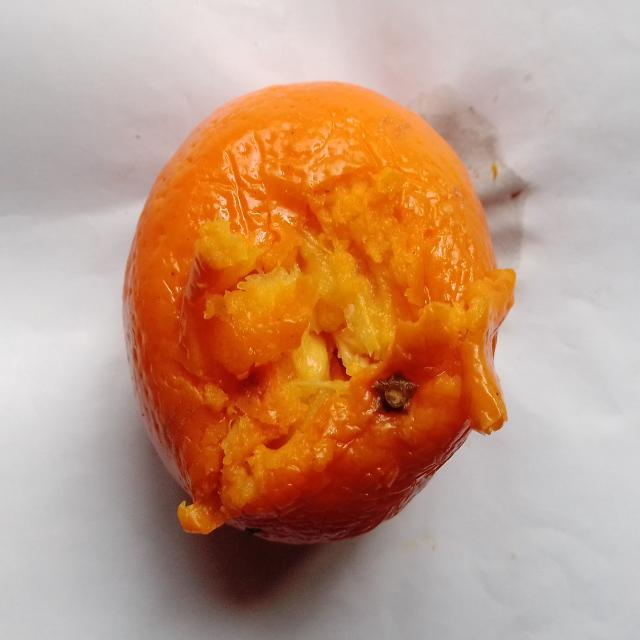orange: (124, 83, 514, 542)
